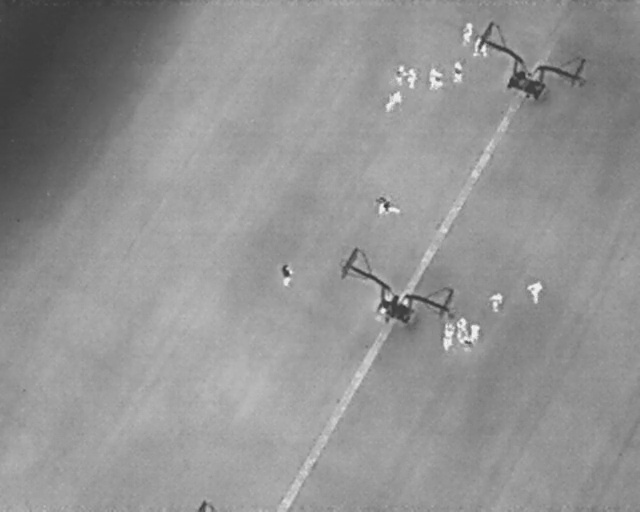Person: (380, 86, 405, 116), (523, 277, 544, 306), (375, 195, 401, 216), (485, 289, 506, 315), (470, 35, 490, 60), (391, 62, 410, 87), (429, 67, 442, 91), (461, 21, 474, 44), (281, 263, 294, 286), (406, 66, 417, 89), (457, 316, 467, 339), (444, 320, 455, 340), (454, 60, 463, 83), (442, 336, 455, 351), (470, 324, 480, 341), (462, 338, 473, 349)
